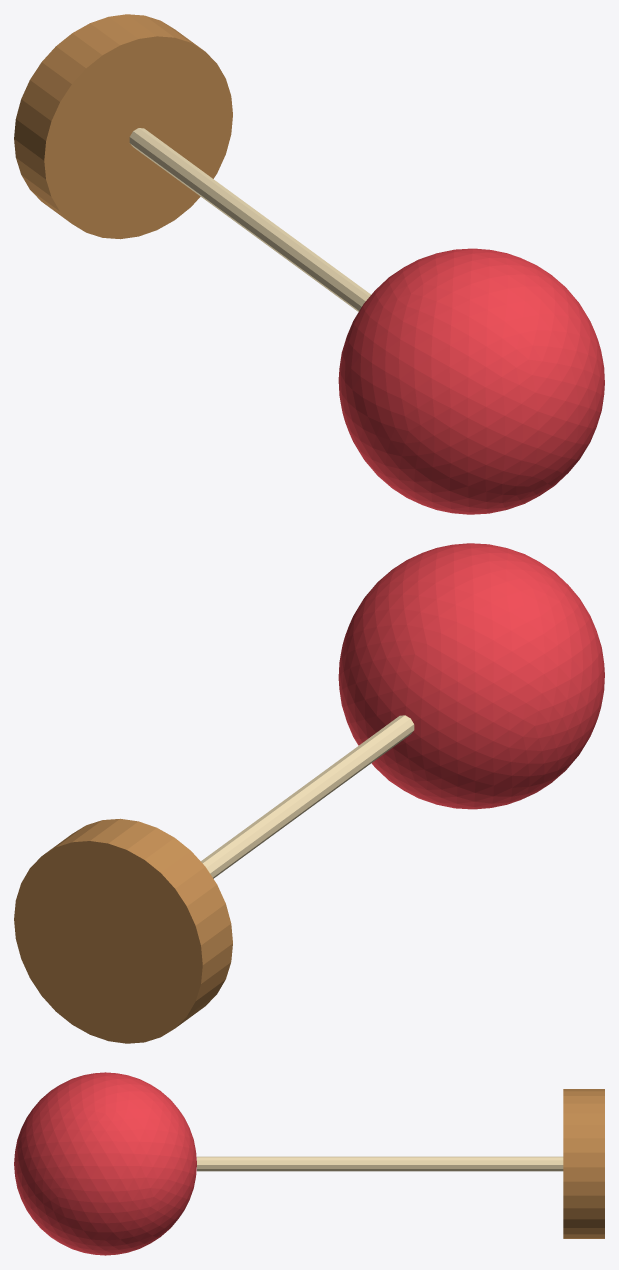
Rendered from ballon_elastique.obj.
The picture shows the model from 3 angles, top to bottom: view 1: azimuth 30°, elevation 25°; view 2: azimuth 150°, elevation 25°; view 3: azimuth 270°, elevation 25°; orthographic projection. The views are drawn at different scales.
Parts seen in each view (by area): view 1: ballon, base, elastique; view 2: ballon, base, elastique; view 3: ballon, base, elastique.
Boxes of the visible parts, left/top/right/bottom form: ballon: left=338, top=248, right=604, bottom=514; base: left=14, top=14, right=232, bottom=239; elastique: left=129, top=128, right=370, bottom=311; ballon: left=338, top=543, right=604, bottom=809; base: left=14, top=818, right=232, bottom=1043; elastique: left=201, top=715, right=414, bottom=878; ballon: left=14, top=1072, right=196, bottom=1255; base: left=563, top=1089, right=604, bottom=1238; elastique: left=197, top=1156, right=563, bottom=1171.
Size of the model in its own units: 44 by 44 by 142.
